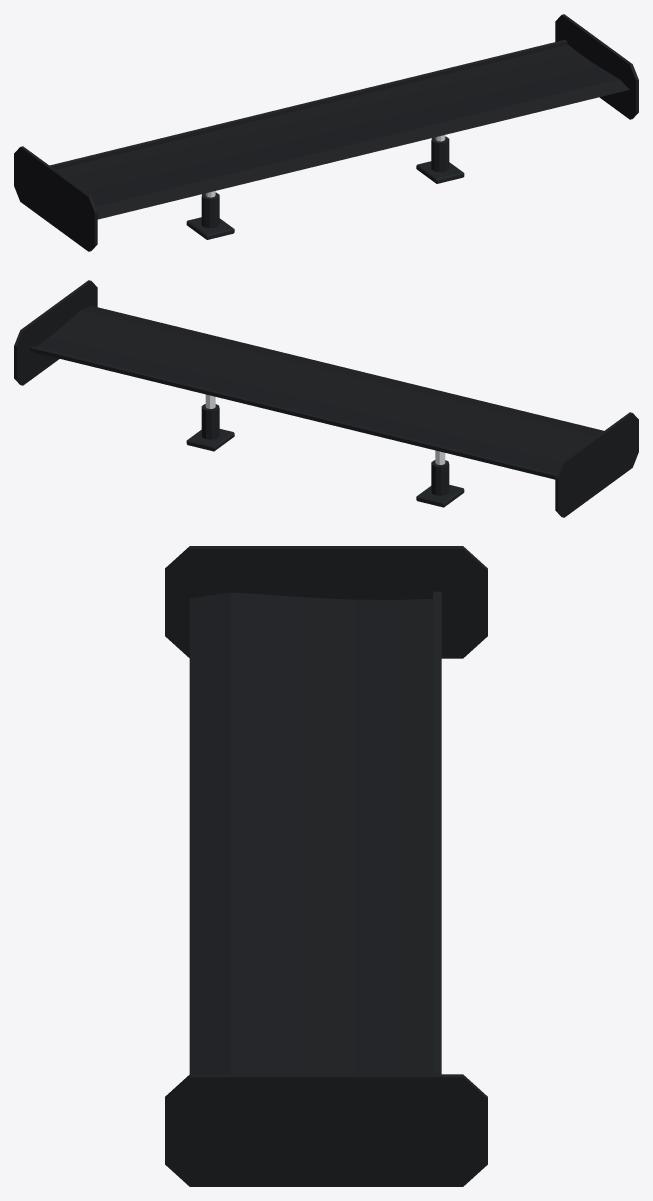
The model's file is apex_v8_active_wing.glb.
The picture shows the model from 3 angles, top to bottom: view 1: azimuth 30°, elevation 25°; view 2: azimuth 150°, elevation 25°; view 3: azimuth 270°, elevation 25°; orthographic projection. The views are drawn at different scales.
Parts seen in each view (by area): view 1: wing_element, model; view 2: wing_element, model; view 3: wing_element.
Boxes of the visible parts, <box> form: wing_element: <box>14,14,638,251</box>; model: <box>186,135,464,239</box>; wing_element: <box>14,280,638,517</box>; model: <box>186,394,464,507</box>; wing_element: <box>165,546,487,1186</box>.
Size of the model in its own units: 1.52 by 0.258 by 0.39.
3 materials, 1 textured.
